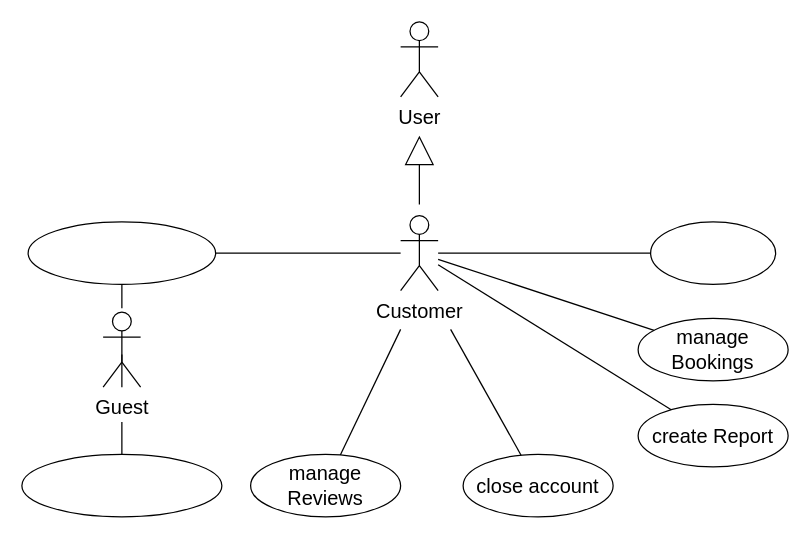
The diagram is 810 pixels wide and 539 high, and some of its shapes have lost their labels. The shapes that lost their labels are listed below. From the top down, each one's centre as x and y in pixels, then its label:
the point at 121,252: browse active Beaches
the point at 712,252: create Booking
the point at 121,485: create Customer account
